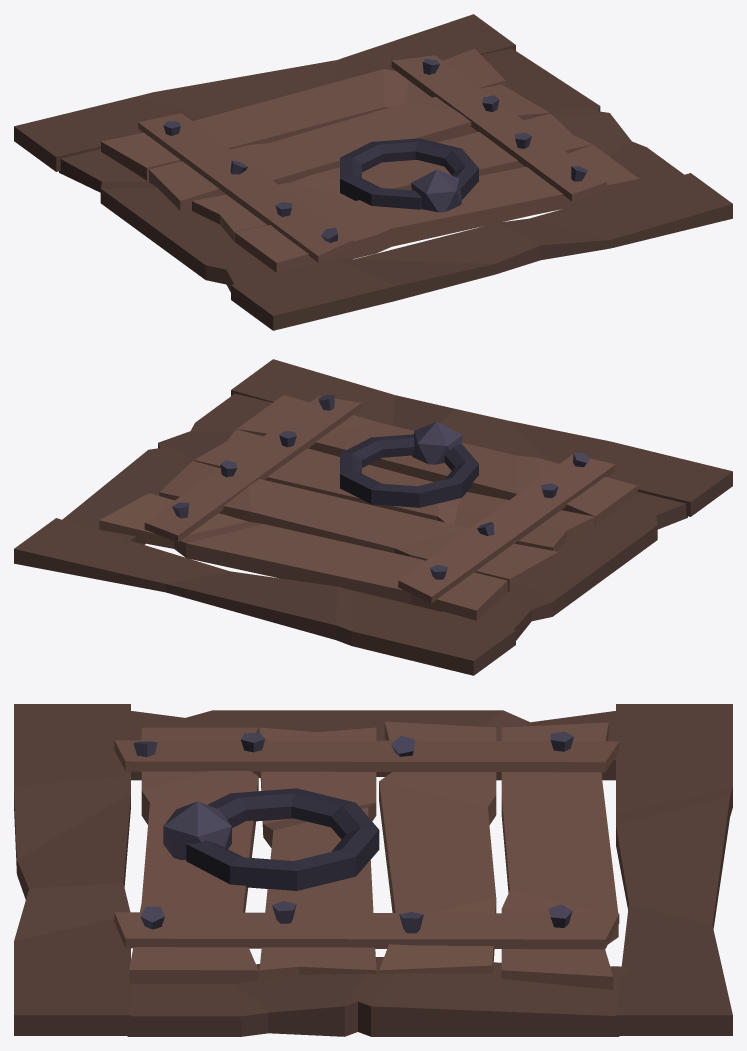
File: Trapdoor.glb
3 renders of one model, top to bottom at view 1: azimuth 30°, elevation 25°; view 2: azimuth 150°, elevation 25°; view 3: azimuth 270°, elevation 25°, orthographic. The views are drawn at different scales.
Visible parts, largest first — view 1: Trapdoor; view 2: Trapdoor; view 3: Trapdoor.
Boxes of the visible parts, <box> form: Trapdoor: <box>14,14,732,330</box>; Trapdoor: <box>14,359,732,675</box>; Trapdoor: <box>14,704,732,1036</box>.
Bounding box in the file's own units: 0.7313 × 0.0904 × 0.714.
